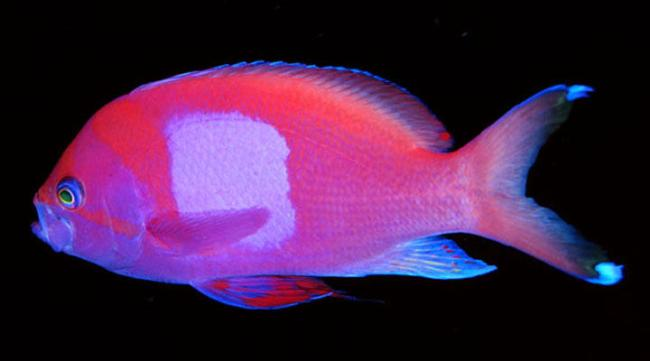fish: (31, 60, 626, 311)
